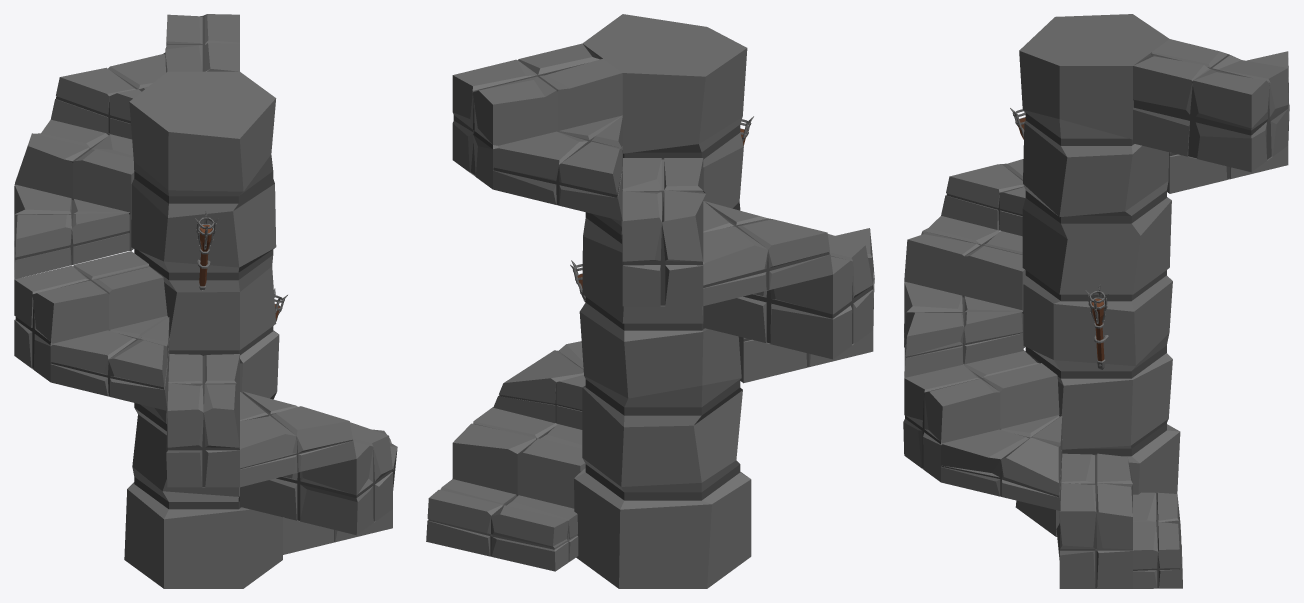
File: Treppe_001.fbx
3 renders of one model, left to right at view 1: azimuth 30°, elevation 25°; view 2: azimuth 150°, elevation 25°; view 3: azimuth 270°, elevation 25°, orthographic. The views are drawn at different scales.
Parts seen in each view (by area): view 1: Treppe_001; view 2: Treppe_001; view 3: Treppe_001.
Boxes of the visible parts, x1,y1,x2,y2 form: Treppe_001: (14,14,397,588); Treppe_001: (426,14,874,588); Treppe_001: (903,14,1289,588).
Bounding box in the file's own units: 549 × 707 × 525.
